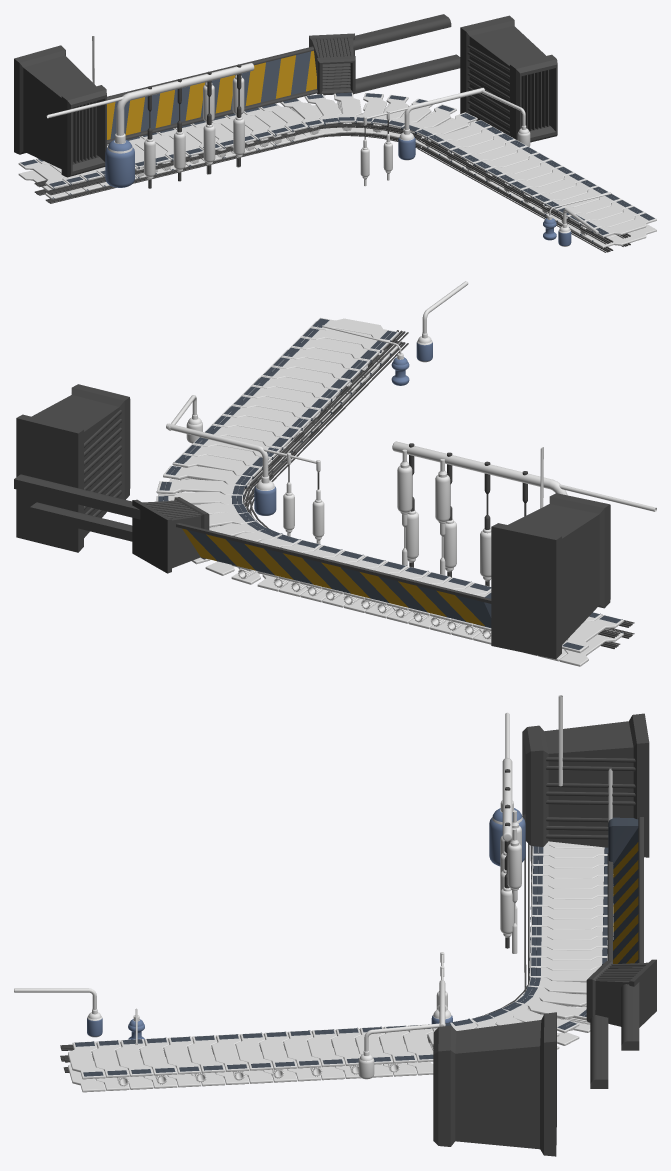
The model's file is Env_Right.fbx.
3 renders of one model, top to bottom at view 1: azimuth 30°, elevation 25°; view 2: azimuth 150°, elevation 25°; view 3: azimuth 270°, elevation 25°, orthographic. The views are drawn at different scales.
Visible parts, largest first — view 1: Cube.008, Cube.007, Plane.012, Plane.002, Plane.010, Plane.007, Cylinder, Plane.013, Cube.002, Cylinder.001, Cube.006, Cube.001 (+11 smaller); view 2: Cube.008, Cube.007, Plane.002, Plane.012, Plane.010, Cube.006, Plane.013, Plane.007, Plane.003, Plane.009, Cylinder.001, Cube.001 (+11 smaller); view 3: Cube.007, Cube.008, Plane.002, Plane.007, Plane.012, Plane.005, Plane.010, Cube.006, Plane.003, Plane.013, Cylinder, Plane.006 (+6 smaller).
Part boxes in pixels (x1=…): Cube.008: x1=14, y1=36, x2=106, y2=177; Cube.007: x1=460, y1=15, x2=557, y2=142; Plane.012: x1=107, y1=46, x2=322, y2=144; Plane.002: x1=427, y1=119, x2=656, y2=237; Plane.010: x1=280, y1=92, x2=477, y2=148; Plane.007: x1=18, y1=103, x2=307, y2=188; Cylinder: x1=46, y1=63, x2=254, y2=187; Plane.013: x1=350, y1=14, x2=460, y2=94; Cube.002: x1=34, y1=113, x2=421, y2=203; Cylinder.001: x1=144, y1=64, x2=244, y2=188; Cube.006: x1=309, y1=33, x2=355, y2=95; Cube.001: x1=418, y1=137, x2=630, y2=252; Cube.008: x1=491, y1=447, x2=610, y2=659; Cube.007: x1=16, y1=384, x2=130, y2=552; Plane.002: x1=172, y1=317, x2=398, y2=477; Plane.012: x1=176, y1=523, x2=491, y2=627; Plane.010: x1=156, y1=465, x2=300, y2=584; Cube.006: x1=132, y1=497, x2=209, y2=573; Plane.013: x1=14, y1=474, x2=140, y2=541; Plane.007: x1=257, y1=539, x2=623, y2=652; Plane.003: x1=174, y1=318, x2=396, y2=479; Plane.009: x1=257, y1=574, x2=623, y2=666; Cylinder.001: x1=405, y1=443, x2=527, y2=586; Cube.001: x1=248, y1=330, x2=408, y2=497; Cube.007: x1=433, y1=1012, x2=556, y2=1156; Cube.008: x1=522, y1=695, x2=649, y2=857; Plane.002: x1=68, y1=1024, x2=433, y2=1079; Plane.007: x1=529, y1=841, x2=613, y2=982; Plane.012: x1=607, y1=817, x2=643, y2=963; Plane.005: x1=68, y1=1043, x2=433, y2=1092; Plane.010: x1=427, y1=977, x2=590, y2=1050; Cube.006: x1=586, y1=959, x2=656, y2=1027; Plane.003: x1=75, y1=1024, x2=433, y2=1076; Plane.013: x1=590, y1=982, x2=639, y2=1088; Cylinder: x1=489, y1=712, x2=525, y2=866; Plane.006: x1=529, y1=846, x2=613, y2=975.
Bounding box in the file's own units: 2002 × 686 × 1883.
